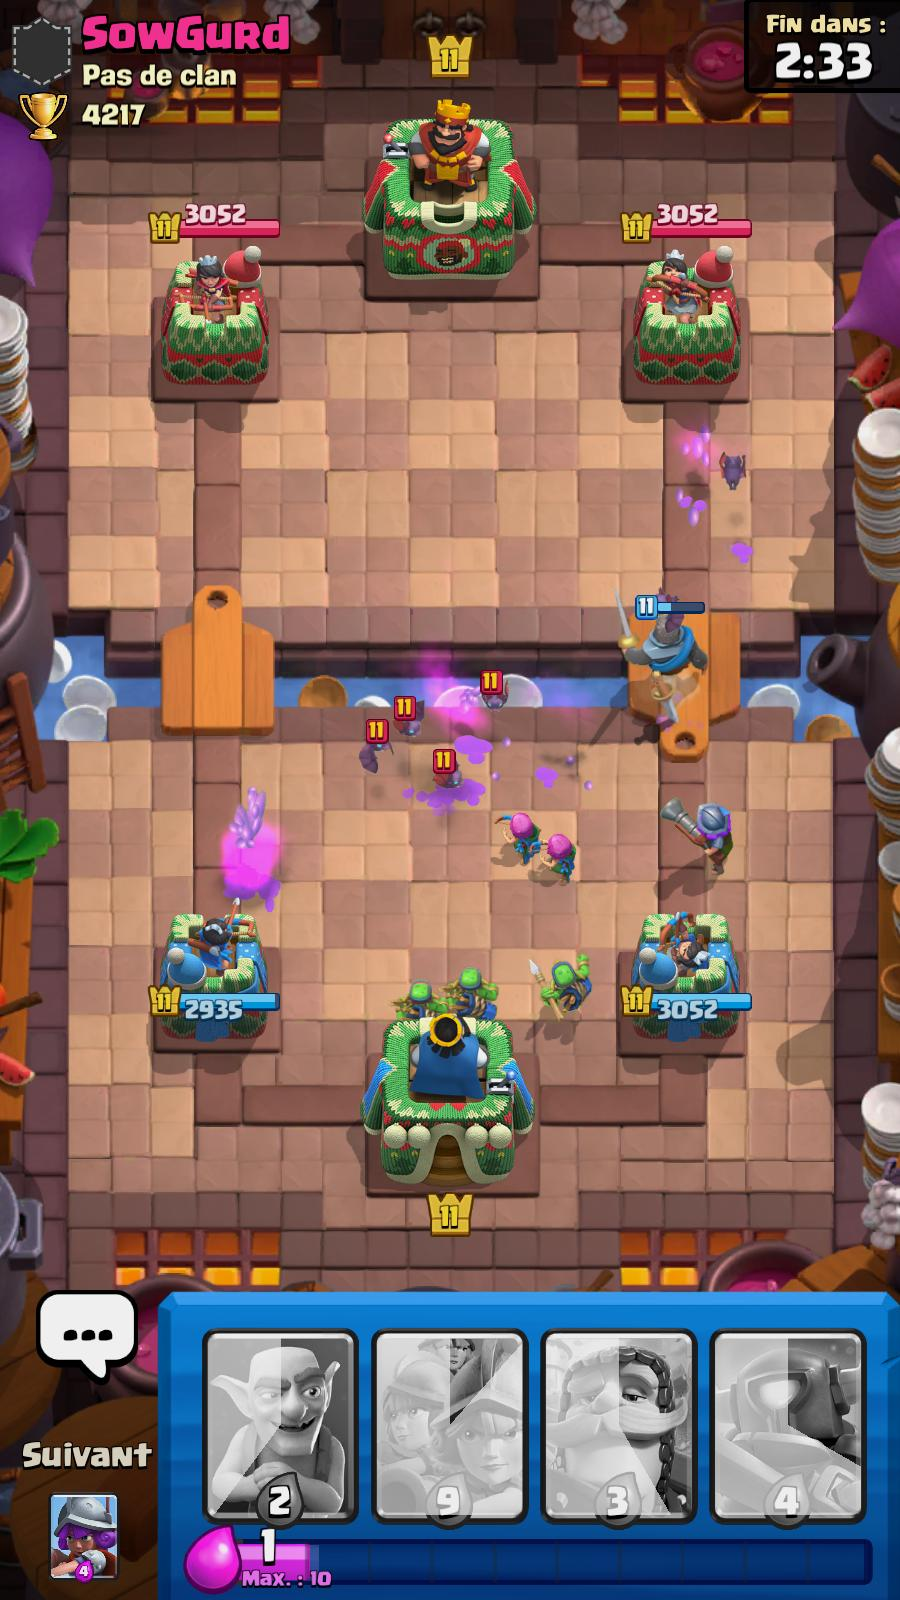archere: (495, 812, 543, 862), (529, 833, 579, 879)
bat: (425, 748, 469, 793), (355, 721, 392, 773), (477, 669, 514, 712), (646, 590, 685, 629), (395, 697, 423, 737), (718, 452, 749, 488)
chevalier: (612, 590, 708, 685)
gobelin_lances: (527, 955, 598, 1011), (448, 968, 499, 1024), (391, 979, 448, 1029)
mousquetaire: (663, 798, 737, 866)
